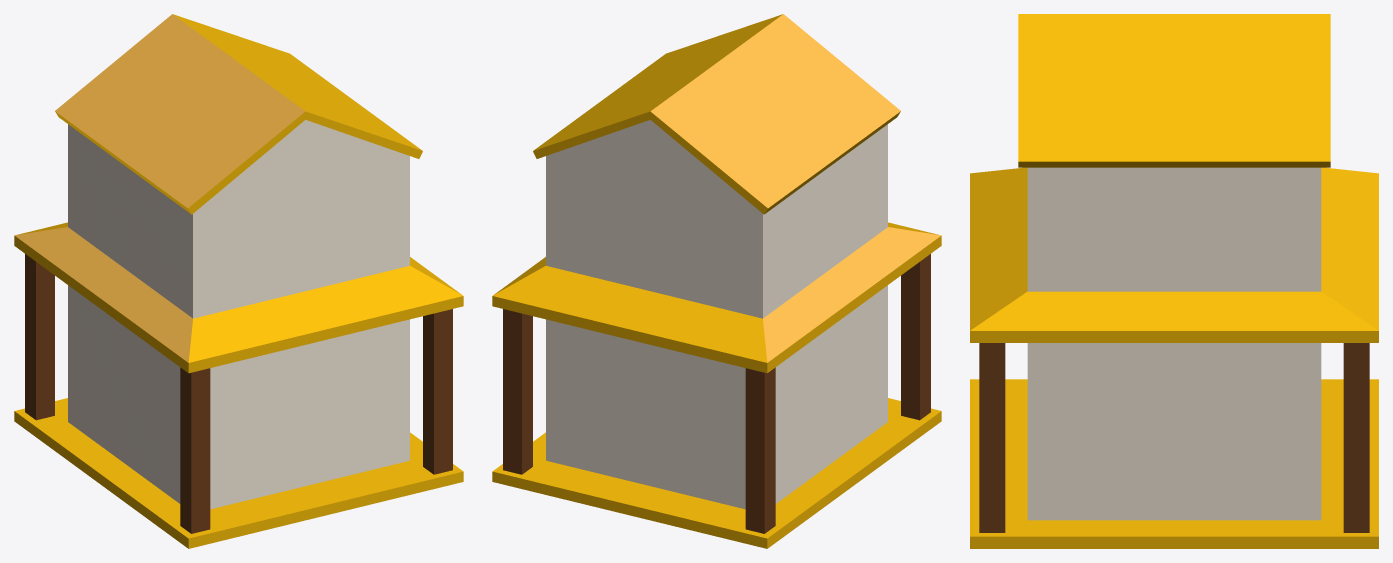
File: Map-House-D-Lv1-Y.fbx
3 renders of one model, left to right at view 1: azimuth 30°, elevation 25°; view 2: azimuth 150°, elevation 25°; view 3: azimuth 270°, elevation 25°, orthographic. The views are drawn at different scales.
Parts seen in each view (by area): view 1: Map-House-D-Lv1-Y; view 2: Map-House-D-Lv1-Y; view 3: Map-House-D-Lv1-Y.
Part boxes in pixels (box(x1,y1,x2,y2)): Map-House-D-Lv1-Y: box(14, 14, 463, 548); Map-House-D-Lv1-Y: box(492, 14, 941, 548); Map-House-D-Lv1-Y: box(970, 14, 1378, 548).
Size of the model in its own units: 0.9118 by 1.23 by 1.
